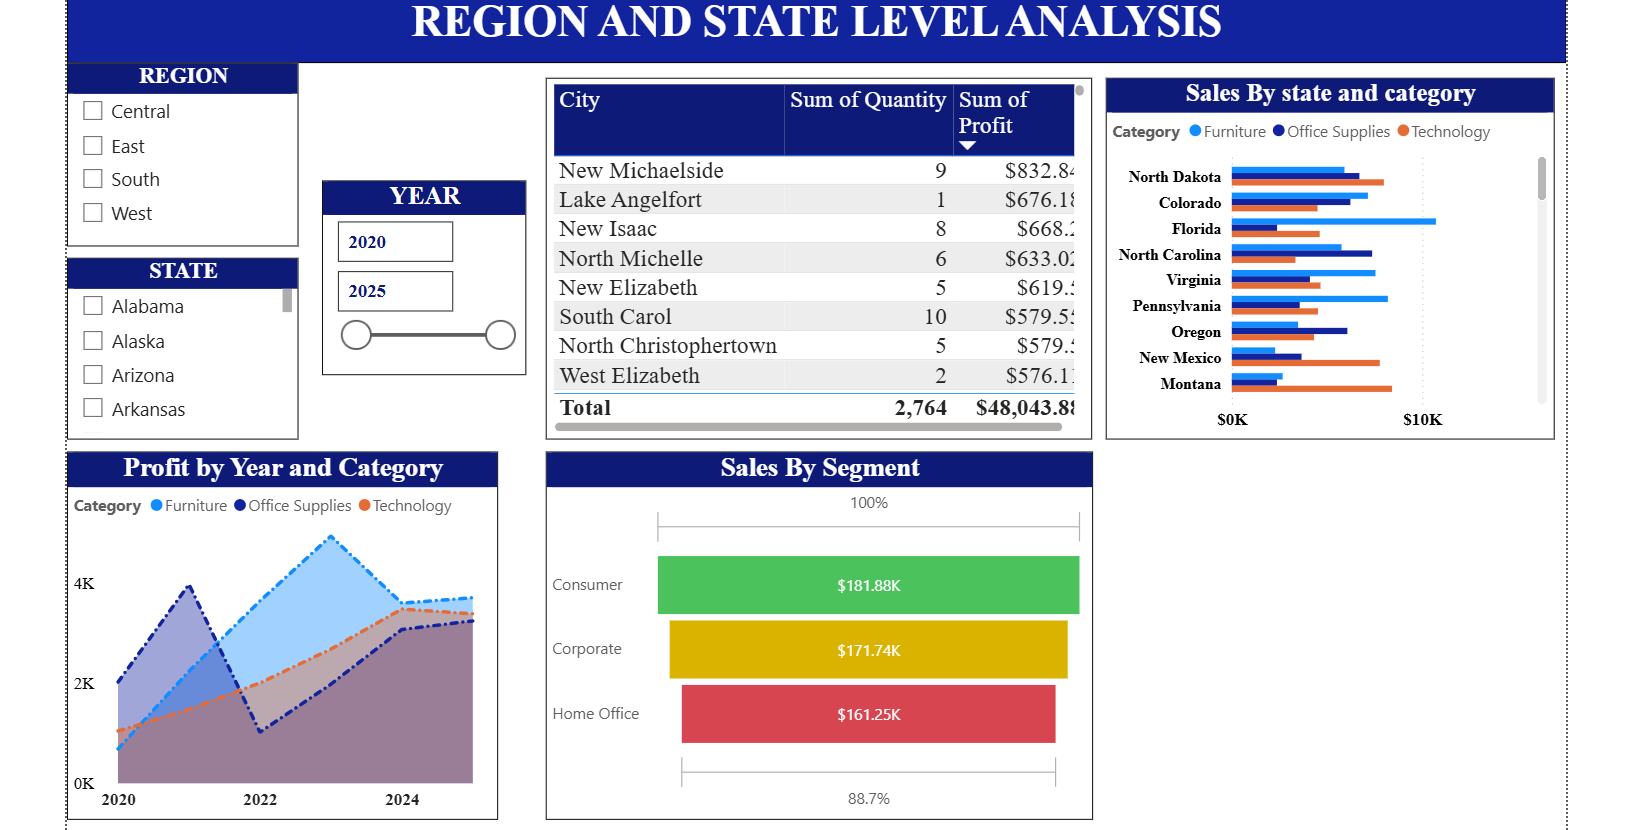

The dashboard page shown, as its layout file describes it:
{"tool":"powerbi","page":{"name":"Region & State","canvas":[1280,720],"ordinal":1},"visuals":[{"type":"textbox","box":[0,0,1280.3,63.1],"z":0},{"type":"slicer","title":"REGION","fields":{"Values":["superstore_dataset.Region"]},"box":[0,63.1,197.6,156.4],"z":1000},{"type":"slicer","title":"STATE","fields":{"Values":["superstore_dataset.State"]},"box":[0,229.2,197.6,155.1],"z":2000},{"type":"slicer","title":"YEAR","fields":{"Values":["superstore_dataset.Year"]},"box":[218.2,163.3,174.3,166],"z":3000},{"type":"tableEx","fields":{"Values":["superstore_dataset.City","Sum(superstore_dataset.Quantity)","Sum(superstore_dataset.Profit)"]},"box":[408.9,75.5,466.6,308.7],"z":4000},{"type":"clusteredBarChart","title":"Sales By state and category","fields":{"Category":["superstore_dataset.State"],"Series":["superstore_dataset.Category"],"Y":["Sum(superstore_dataset.Sales)"]},"box":[886.5,75.5,382.8,308.7],"z":5000},{"type":"areaChart","title":" Profit by Year and Category","fields":{"Category":["superstore_dataset.Year"],"Series":["superstore_dataset.Category"],"Y":["Sum(superstore_dataset.Profit)"]},"box":[0,395.2,367.8,314.2],"z":6000},{"type":"funnel","title":"Sales By Segment","fields":{"Category":["superstore_dataset.Segment"],"Y":["Sum(superstore_dataset.Sales)"]},"box":[409,395,467,314],"z":7000}]}

Visuals, with their boxes in screenshot pixels (x1, y1, x2, y2):
textbox: l=60, t=0, r=1571, b=62
"REGION" slicer: l=60, t=62, r=293, b=246
"STATE" slicer: l=60, t=258, r=293, b=441
"YEAR" slicer: l=317, t=180, r=523, b=376
tableEx - superstore_dataset.City x Sum(superstore_dataset.Quantity): l=543, t=76, r=1093, b=441
"Sales By state and category" clusteredBarChart: l=1106, t=76, r=1558, b=441
" Profit by Year and Category" areaChart: l=60, t=454, r=494, b=824
"Sales By Segment" funnel: l=543, t=453, r=1094, b=824
